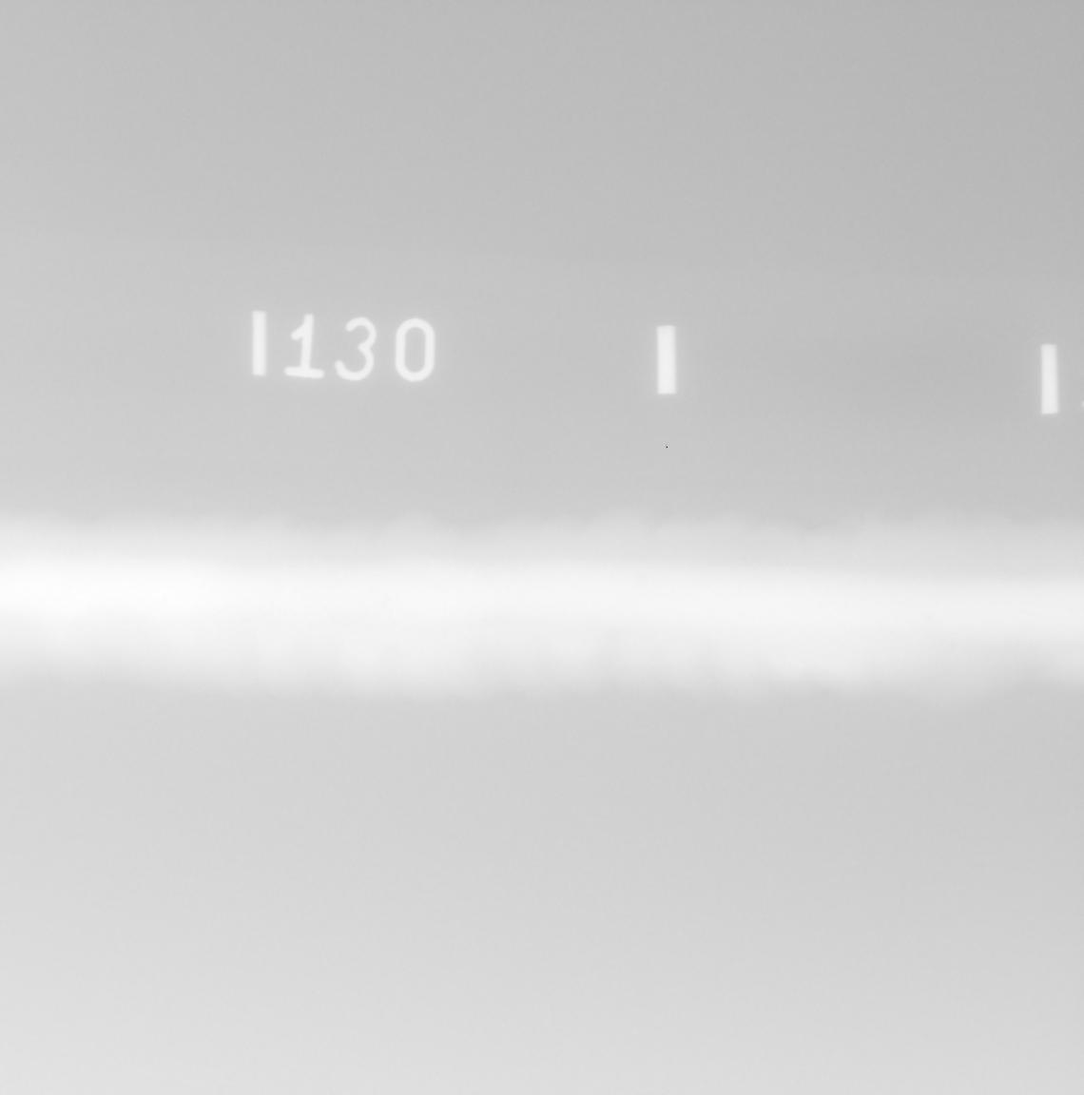Inclusion: (636, 576, 646, 587), (161, 595, 165, 599), (927, 615, 931, 619), (1020, 610, 1024, 613)
Pore/Porosity: (384, 603, 388, 607), (387, 597, 391, 601)
